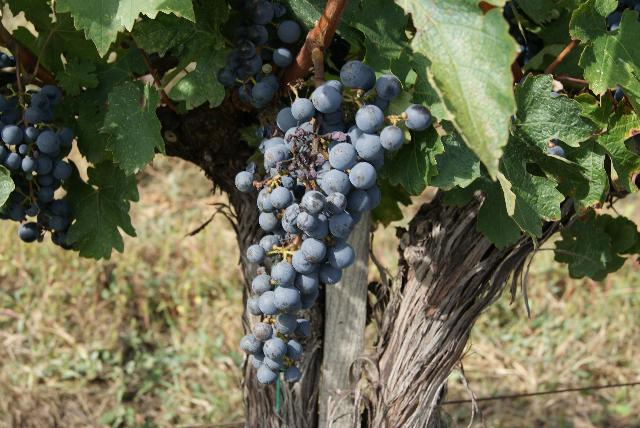grapes: (240, 60, 402, 384)
